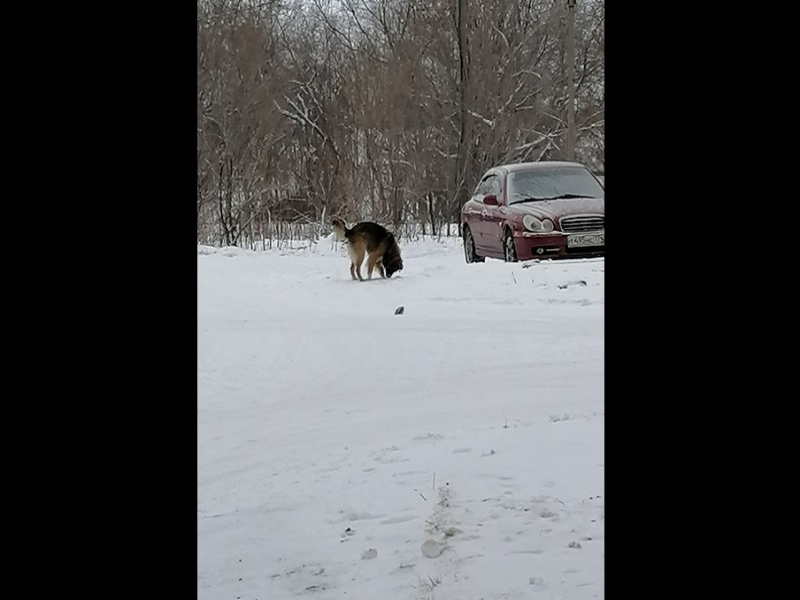dog: (333, 215, 406, 283)
